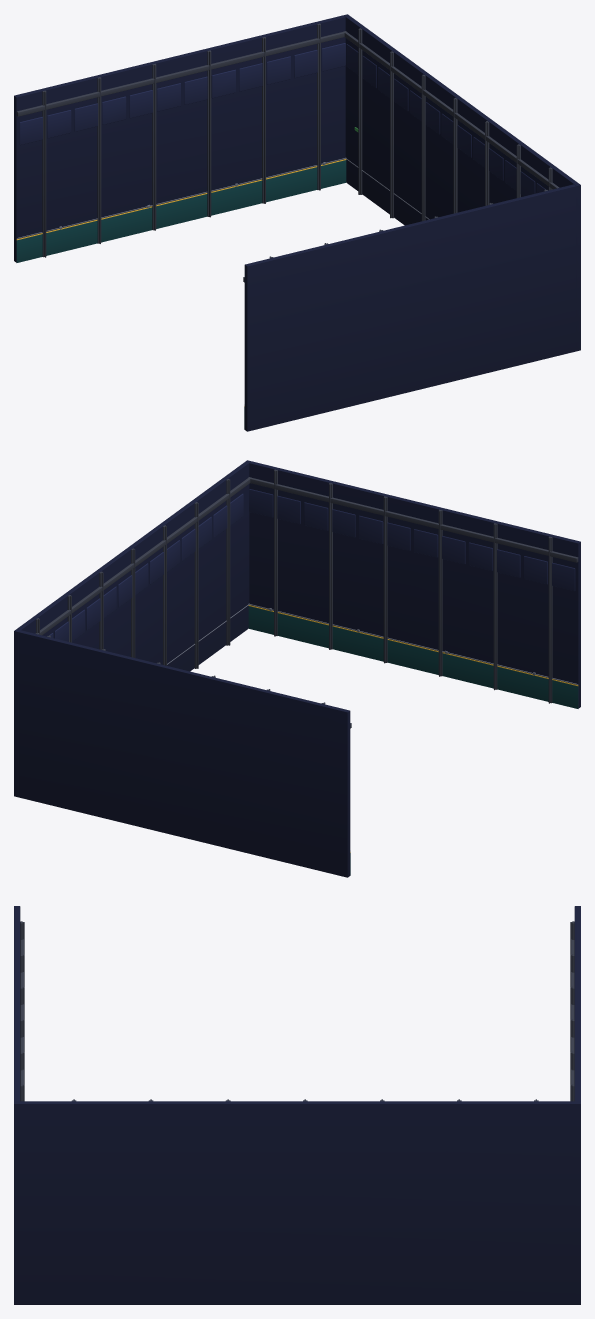
Rendered from SM_Stage4_Walls.fbx.
3 views of the same model, one above another, from view 1: azimuth 30°, elevation 25°; view 2: azimuth 150°, elevation 25°; view 3: azimuth 270°, elevation 25° (orthographic). The views are drawn at different scales.
Parts seen in each view (by area): view 1: SM_Stage4_Walls; view 2: SM_Stage4_Walls; view 3: SM_Stage4_Walls.
Part boxes in pixels (x1,y1,x2,y2): SM_Stage4_Walls: (14,14,580,431); SM_Stage4_Walls: (14,460,580,877); SM_Stage4_Walls: (14,906,580,1304).
Bounding box in the file's own units: 3040 × 1440 × 3680.
